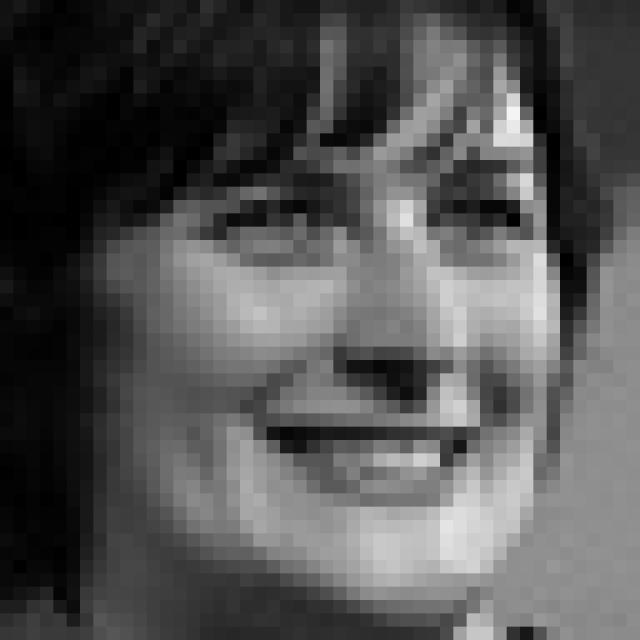happy: (187, 143, 552, 528)
